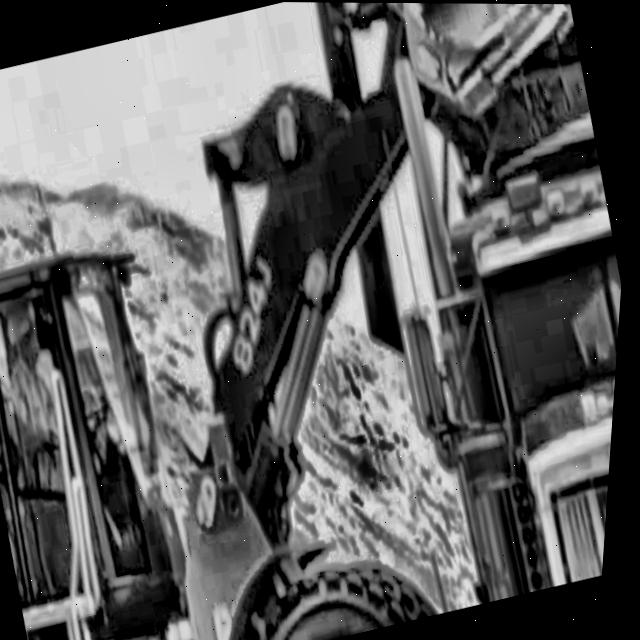buldozerpayloadergrader: (0, 0, 640, 640)
dump_truck: (324, 74, 636, 615)
